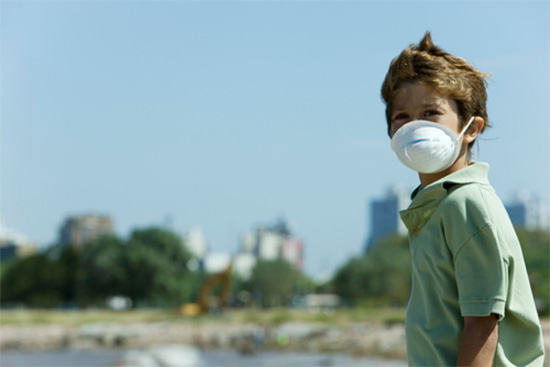face_mask: (390, 84, 463, 173)
